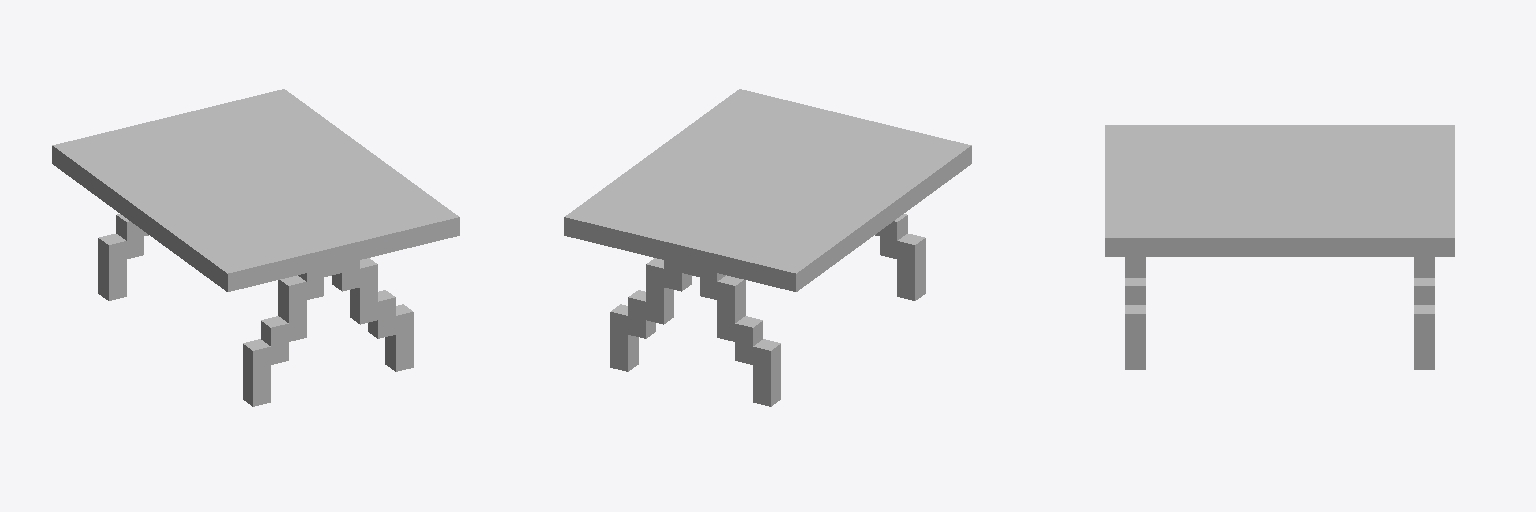
The model's file is Stół 2.obj.
The picture shows the model from 3 angles: view 1: azimuth 30°, elevation 25°; view 2: azimuth 150°, elevation 25°; view 3: azimuth 270°, elevation 25°; orthographic projection.
Parts seen in each view (by area): view 1: object 1; view 2: object 1; view 3: object 1.
Boxes of the visible parts, box(x1,y1,x2,y2) form: object 1: box(52, 89, 459, 406); object 1: box(564, 89, 971, 406); object 1: box(1105, 125, 1454, 369).
Bounding box in the file's own units: 1.3 × 0.8 × 1.7.